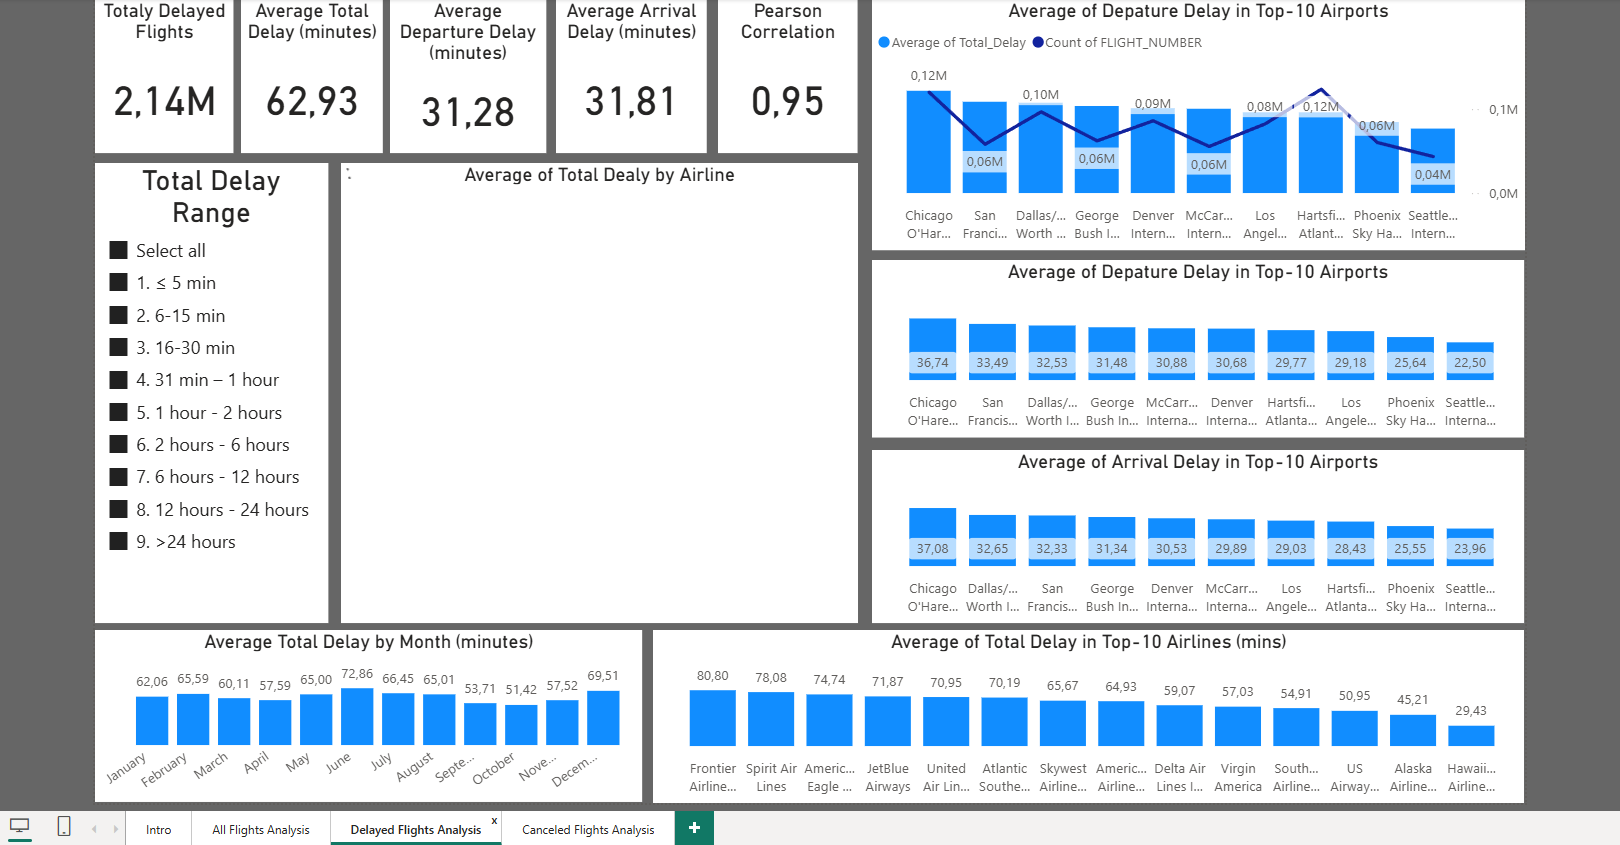

The page's visual inventory and layout, read from the dashboard file:
{"tool":"powerbi","page":{"name":"Delayed Flights Analysis","canvas":[1280,720],"ordinal":2},"visuals":[{"type":"slicer","title":"Total Delay Range","fields":{"Values":["flights.Delay_Category"]},"box":[0,146.9,208.7,411.9],"z":0},{"type":"card","title":"Totaly Delayed Flights","fields":{"Values":["CountNonNull(flights.FLIGHT_NUMBER)"]},"box":[0,0,124.5,137.9],"z":2000},{"type":"lineStackedColumnComboChart","title":"Average of Depature Delay in Top-10 Airports","fields":{"Category":["airports.AIRPORT"],"Y":["Avg(flights.Total_Delay)"],"Y2":["CountNonNull(flights.FLIGHT_NUMBER)"]},"box":[695.8,0,584.8,224.8],"z":3000},{"type":"card","title":"Average Total Delay (minutes)","fields":{"Values":["Avg(flights.Total_Delay)"]},"box":[130.7,0,127.2,137.9],"z":4000},{"type":"lineStackedColumnComboChart","title":"Average of Depature Delay in Top-10 Airports","fields":{"Category":["airports.AIRPORT"],"Y":["Avg(flights.DEPARTURE_DELAY)"]},"box":[695.8,233.7,583.9,158.5],"z":5000},{"type":"lineStackedColumnComboChart","title":"Average of Arrival Delay in Top-10 Airports","fields":{"Category":["airports.AIRPORT"],"Y":["Avg(flights.ARRIVAL_DELAY)"]},"box":[695.8,403.9,583.9,154.9],"z":6000},{"type":"columnChart","title":"Average of Total Delay in Top-10 Airlines (mins)","fields":{"Category":["airlines.AIRLINE"],"Y":["Avg(flights.Total_Delay)"]},"box":[499.7,565.1,780,154.9],"z":7000},{"type":"card","title":"Average Departure Delay (minutes)","fields":{"Values":["Avg(flights.DEPARTURE_DELAY)"]},"box":[264.2,0,139.7,137.9],"z":8000},{"type":"card","title":"Average Arrival Delay (minutes)","fields":{"Values":["Avg(flights.ARRIVAL_DELAY)"]},"box":[412.8,0,135.2,137.9],"z":9000},{"type":"columnChart","title":"Average Total Delay by Month (minutes)","fields":{"Category":["months.month_name.Variation.Date Hierarchy.Year","months.month_name.Variation.Date Hierarchy.Quarter","months.month_name.Variation.Date Hierarchy.Month","months.month_name.Variation.Date Hierarchy.Day"],"Y":["Avg(flights.Total_Delay)"]},"box":[0,565.1,489.9,154],"z":10000},{"type":"scatterChart","title":"Average of Total Dealy by Airline","fields":{"X":["Avg(flights.DEPARTURE_DELAY)"],"Y":["Avg(flights.ARRIVAL_DELAY)"],"Series":["airlines.AIRLINE"],"Category":["flights.FlightID"]},"box":[220.3,146.9,463,411.9],"z":11000},{"type":"card","title":"Pearson Correlation","fields":{"Values":["airlines.PearsonCorrelation"]},"box":[557.9,0,125.4,137.9],"z":12000}]}

Visuals, with their boxes in screenshot pixels (x1, y1, x2, y2):
"Total Delay Range" slicer: BBox(93, 160, 325, 619)
"Totaly Delayed Flights" card: BBox(93, 0, 232, 149)
"Average of Depature Delay in Top-10 Airports" lineStackedColumnComboChart: BBox(868, 0, 1520, 246)
"Average Total Delay (minutes)" card: BBox(239, 0, 380, 149)
"Average of Depature Delay in Top-10 Airports" lineStackedColumnComboChart: BBox(868, 256, 1519, 433)
"Average of Arrival Delay in Top-10 Airports" lineStackedColumnComboChart: BBox(868, 446, 1519, 619)
"Average of Total Delay in Top-10 Airlines (mins)" columnChart: BBox(650, 626, 1519, 798)
"Average Departure Delay (minutes)" card: BBox(387, 0, 543, 149)
"Average Arrival Delay (minutes)" card: BBox(553, 0, 704, 149)
"Average Total Delay by Month (minutes)" columnChart: BBox(93, 626, 639, 797)
"Average of Total Dealy by Airline" scatterChart: BBox(338, 160, 854, 619)
"Pearson Correlation" card: BBox(715, 0, 854, 149)
